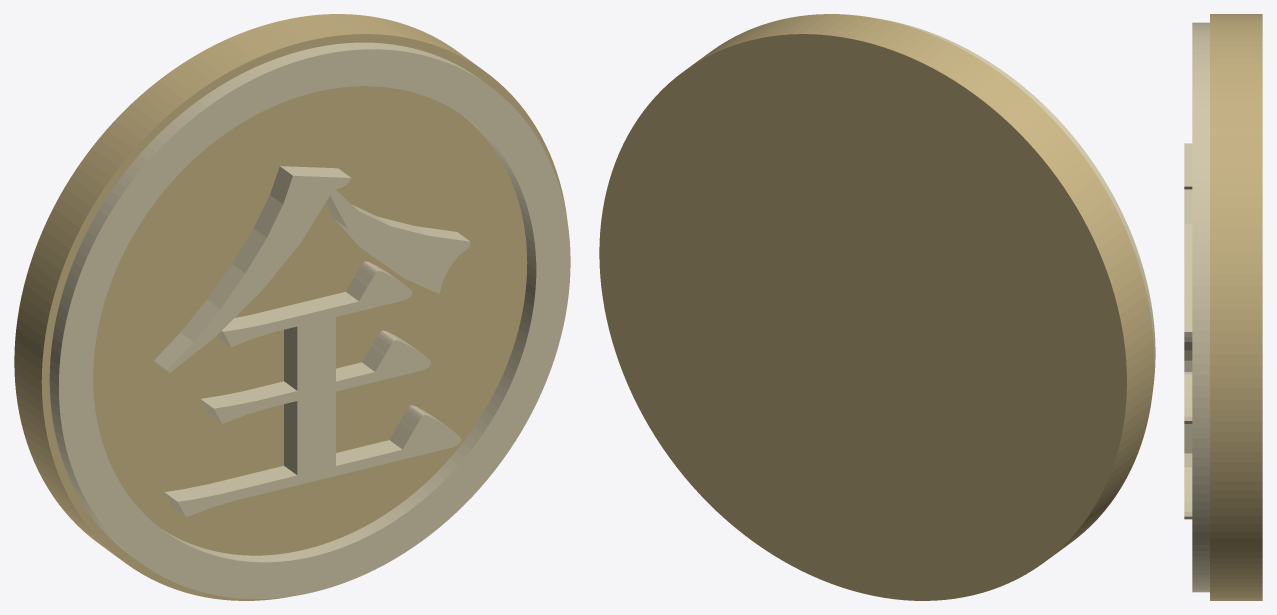
The model's file is medal-zenjinrui.glb.
3 views of the same model, side by side, from view 1: azimuth 30°, elevation 25°; view 2: azimuth 150°, elevation 25°; view 3: azimuth 270°, elevation 25° (orthographic). The views are drawn at different scales.
Parts seen in each view (by area): view 1: world; view 2: world; view 3: world.
Part boxes in pixels (bbox=[...]): world: bbox=[14, 14, 570, 600]; world: bbox=[599, 14, 1155, 600]; world: bbox=[1184, 14, 1262, 600].
Bounding box in the file's own units: 2 × 2 × 0.267.
